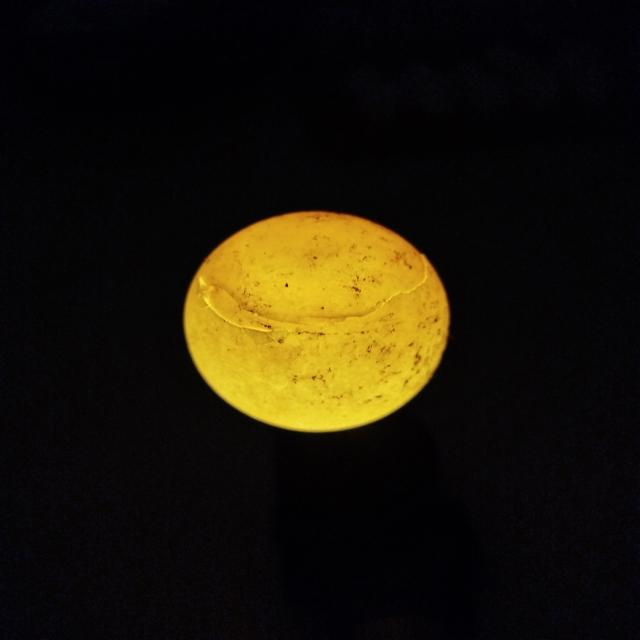Rachadura: (192, 253, 432, 336)
